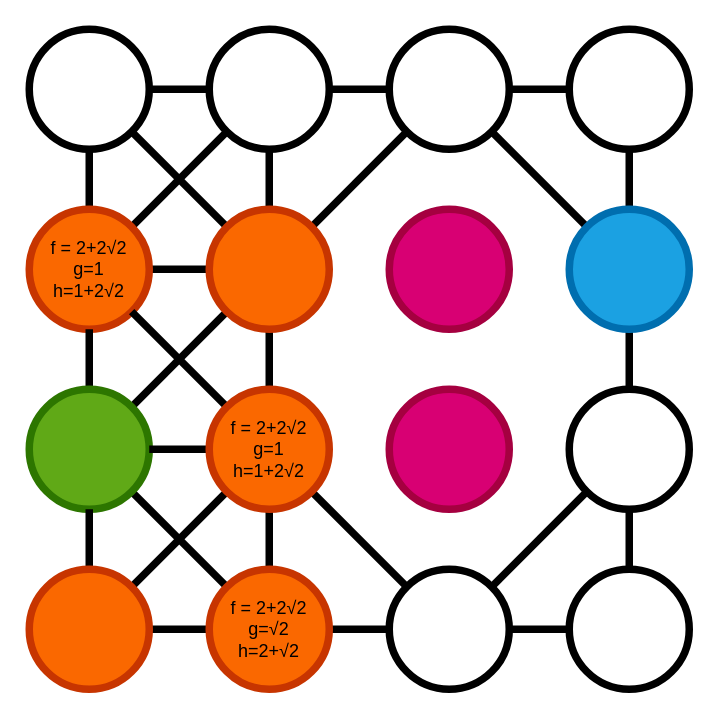
The diagram is 719 pixels wide and 719 high, and some of its shapes have lost their labels. The centre of each missing label's shape, as x and y in pixels:
"f = 3+√2 g=1 h=3+√2" goes at (x=88, y=628).
"f = 3√2 g=√2 h=2√2" goes at (x=268, y=268).
